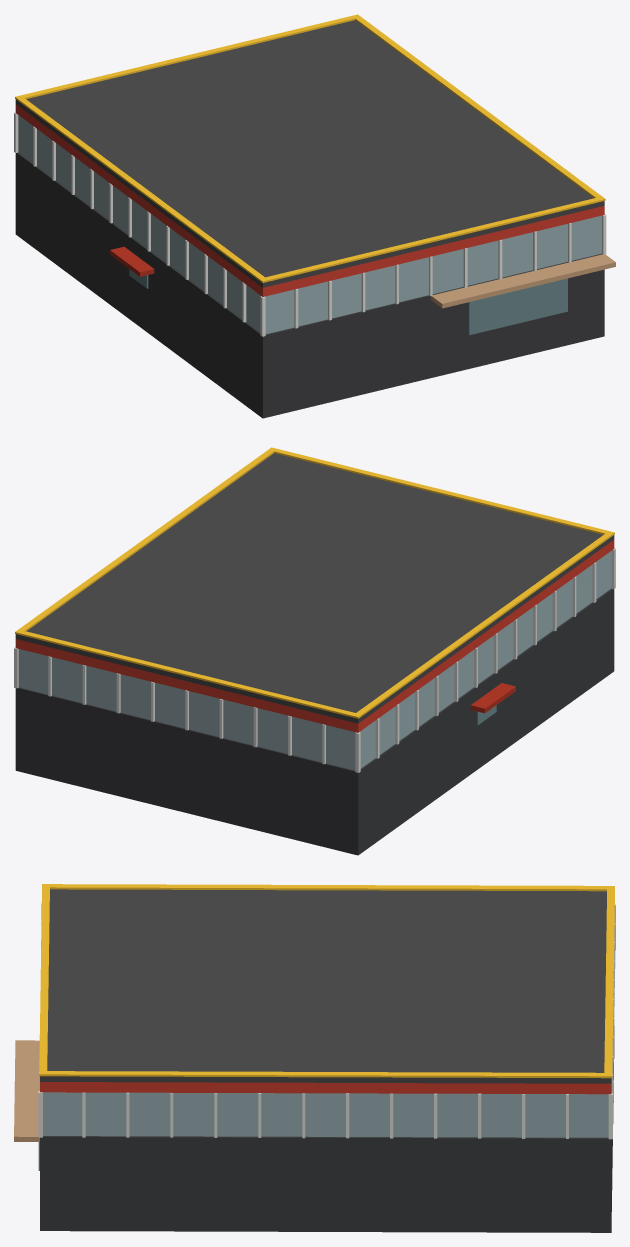
Rendered from mcdonalds-wuquanxi.glb.
The picture shows the model from 3 angles, top to bottom: view 1: azimuth 30°, elevation 25°; view 2: azimuth 150°, elevation 25°; view 3: azimuth 270°, elevation 25°; orthographic projection. The views are drawn at different scales.
Parts seen in each view (by area): view 1: mcdonalds-wuquanxi; view 2: mcdonalds-wuquanxi; view 3: mcdonalds-wuquanxi.
Boxes of the visible parts, <box> form: mcdonalds-wuquanxi: <box>14,14,615,418</box>; mcdonalds-wuquanxi: <box>14,447,615,855</box>; mcdonalds-wuquanxi: <box>14,884,615,1232</box>.
Size of the model in its own units: 32.68 by 12 by 41.71.
